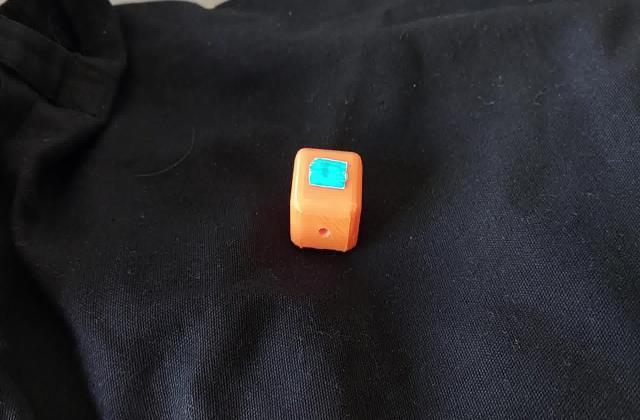blue: (316, 164, 340, 182)
sticker: (288, 144, 364, 254)
